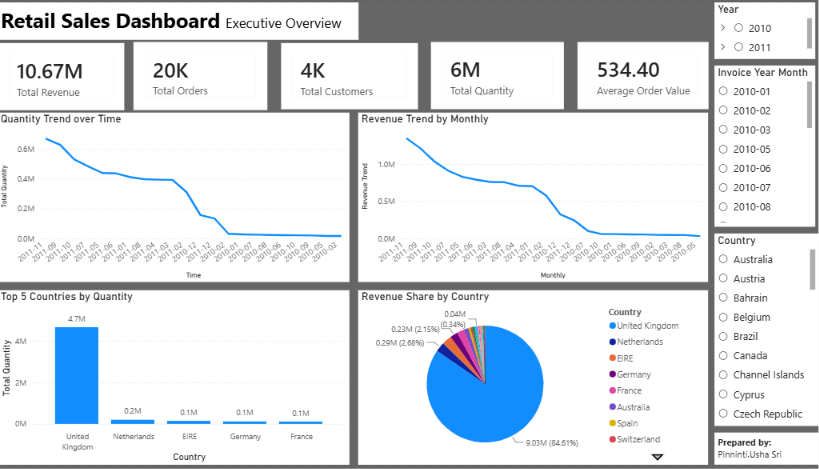

The page's visual inventory and layout, read from the dashboard file:
{"tool":"powerbi","page":{"name":"Retail_Sales_Dashboard-Page1","canvas":[1280,720],"ordinal":0},"visuals":[{"type":"cardVisual","fields":{"Data":["online_retail_cleaned.Total Revenue"]},"box":[0,63.8,197.1,104.3],"z":0},{"type":"cardVisual","fields":{"Data":["online_retail_cleaned.Total Orders"]},"box":[211.6,62.3,208.7,105.8],"z":1000},{"type":"cardVisual","fields":{"Data":["online_retail_cleaned.Total Customers"]},"box":[442,63.8,213,102.9],"z":2000},{"type":"cardVisual","fields":{"Data":["online_retail_cleaned.Average Order Value"]},"box":[902.9,62.3,204.3,104.3],"z":3000},{"type":"lineChart","fields":{"Y":["online_retail_cleaned.Total Revenue"],"Category":["online_retail_cleaned.Invoice Year Month"]},"box":[562.3,171,544.9,263.8],"z":4000},{"type":"lineChart","title":"Quantity Trend over Time","fields":{"Category":["online_retail_cleaned.Invoice Year Month"],"Y":["online_retail_cleaned.Total Quantity"]},"box":[0,171,547.8,263.8],"z":5000},{"type":"cardVisual","fields":{"Data":["online_retail_cleaned.Total Quantity"]},"box":[675.4,62.3,207.2,104.3],"z":6000},{"type":"clusteredColumnChart","title":"Top 5 Countries by Quantity","fields":{"Category":["online_retail_cleaned.Country"],"Y":["online_retail_cleaned.Total Quantity"]},"box":[0,447.8,547.8,272.5],"z":7000},{"type":"pieChart","fields":{"Category":["online_retail_cleaned.Country"],"Y":["online_retail_cleaned.Total Revenue"]},"box":[562.3,447.8,544.9,272.5],"z":8000},{"type":"listSlicer","fields":{"Values":["online_retail_cleaned.Country"]},"box":[1117.1,360,162.9,300],"z":9000},{"type":"listSlicer","fields":{"Values":["online_retail_cleaned.Invoice Year Month"]},"box":[1117.1,98.6,157.1,251.4],"z":10000},{"type":"listSlicer","fields":{"Values":["online_retail_cleaned.FixedInvoiceDate.Variation.Date Hierarchy.Year","online_retail_cleaned.FixedInvoiceDate.Variation.Date Hierarchy.Quarter","online_retail_cleaned.FixedInvoiceDate.Variation.Date Hierarchy.Month","online_retail_cleaned.FixedInvoiceDate.Variation.Date Hierarchy.Day"]},"box":[1117.1,0,157.1,88.6],"z":11000},{"type":"textbox","box":[0,0,562.3,58],"z":12000},{"type":"textbox","box":[1117.1,670,162.9,50],"z":13000}]}

Visuals, with their boxes in screenshot pixels (x1, y1, x2, y2), scaled from the page's 1280x720 canvas onto the 819x469 screenshot:
cardVisual - online_retail_cleaned.Total Revenue: (x1=0, y1=42, x2=126, y2=109)
cardVisual - online_retail_cleaned.Total Orders: (x1=135, y1=41, x2=269, y2=109)
cardVisual - online_retail_cleaned.Total Customers: (x1=283, y1=42, x2=419, y2=109)
cardVisual - online_retail_cleaned.Average Order Value: (x1=578, y1=41, x2=708, y2=109)
lineChart - online_retail_cleaned.Total Revenue x online_retail_cleaned.Invoice Year Month: (x1=360, y1=111, x2=708, y2=283)
"Quantity Trend over Time" lineChart: (x1=0, y1=111, x2=351, y2=283)
cardVisual - online_retail_cleaned.Total Quantity: (x1=432, y1=41, x2=565, y2=109)
"Top 5 Countries by Quantity" clusteredColumnChart: (x1=0, y1=292, x2=351, y2=468)
pieChart - online_retail_cleaned.Country x online_retail_cleaned.Total Revenue: (x1=360, y1=292, x2=708, y2=468)
listSlicer - online_retail_cleaned.Country: (x1=715, y1=234, x2=818, y2=430)
listSlicer - online_retail_cleaned.Invoice Year Month: (x1=715, y1=64, x2=815, y2=228)
listSlicer - online_retail_cleaned.FixedInvoiceDate.Variation.Date Hierarchy.Year x online_retail_cleaned.FixedInvoiceDate.Variation.Date Hierarchy.Quarter: (x1=715, y1=0, x2=815, y2=58)
textbox: (x1=0, y1=0, x2=360, y2=38)
textbox: (x1=715, y1=436, x2=818, y2=468)
